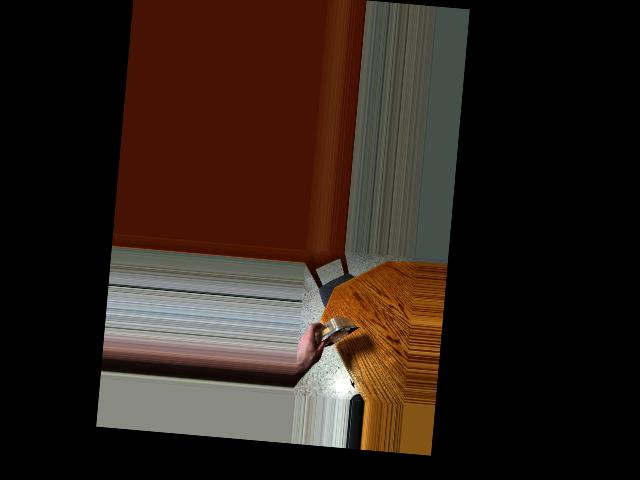cheese: (307, 308, 355, 364)
